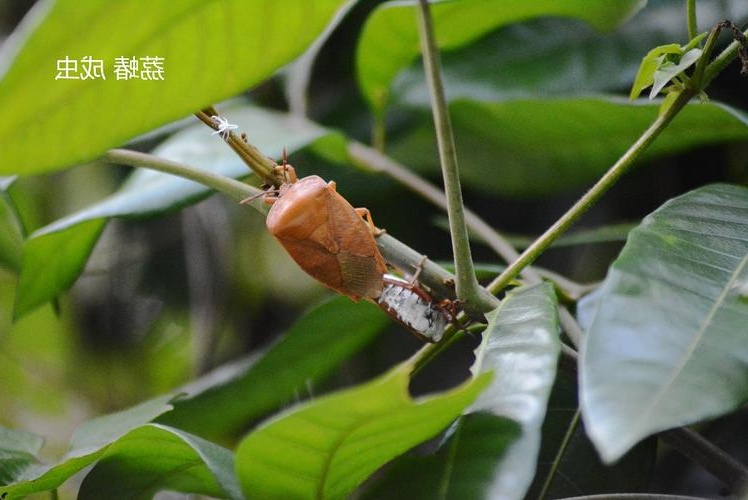Stink_Bug: (267, 178, 374, 289), (391, 261, 436, 345)
